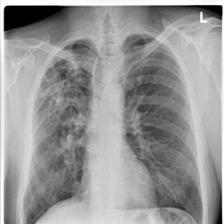tuberculosis: (22, 28, 205, 224)
